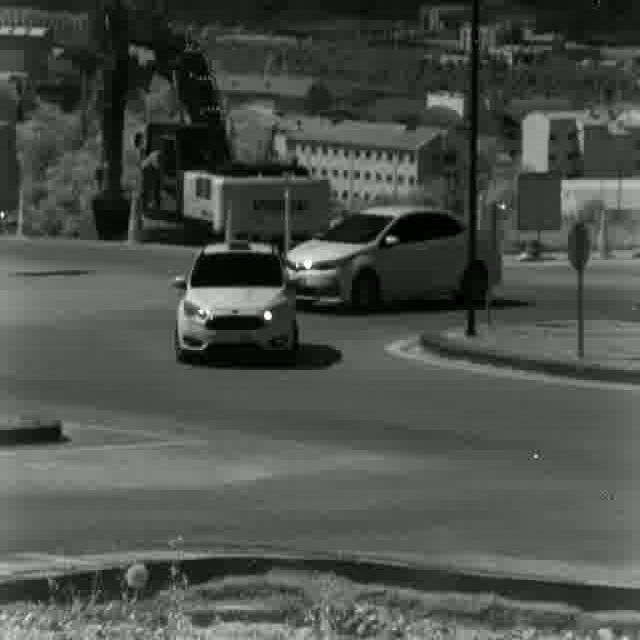Car: (281, 206, 498, 312), (172, 241, 298, 363)
